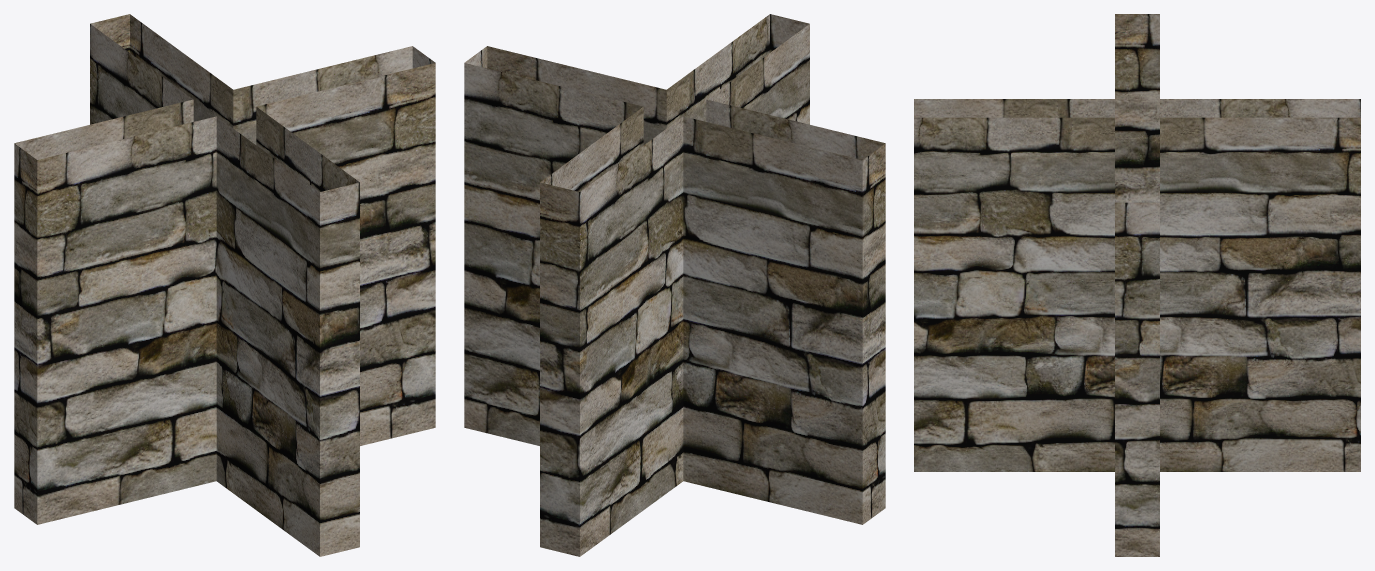
The model's file is Wall_crest.fbx.
3 views of the same model, side by side, from view 1: azimuth 30°, elevation 25°; view 2: azimuth 150°, elevation 25°; view 3: azimuth 270°, elevation 25° (orthographic). The views are drawn at different scales.
Parts seen in each view (by area): view 1: Wall_Crest; view 2: Wall_Crest; view 3: Wall_Crest.
Boxes of the visible parts, x1=… form: Wall_Crest: x1=14, y1=14, x2=435, y2=556; Wall_Crest: x1=464, y1=14, x2=885, y2=556; Wall_Crest: x1=914, y1=14, x2=1360, y2=556.
Bounding box in the file's own units: 4 × 3.5 × 4.
